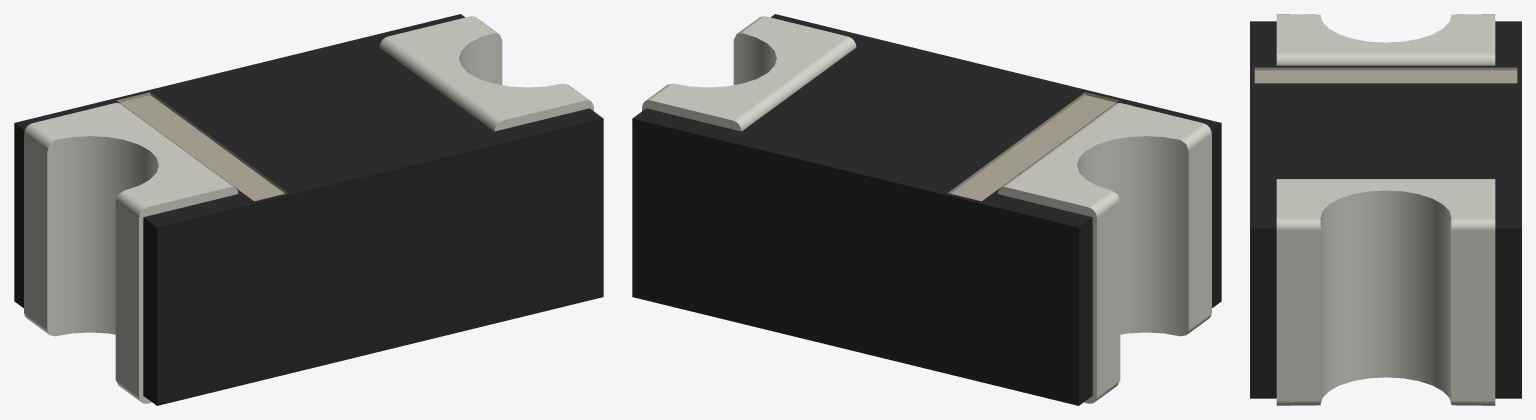
3 views of the same model, side by side, from view 1: azimuth 30°, elevation 25°; view 2: azimuth 150°, elevation 25°; view 3: azimuth 270°, elevation 25° (orthographic). The views are drawn at different scales.
Parts seen in each view (by area): view 1: =>[0:1:1:3]; view 2: =>[0:1:1:3]; view 3: =>[0:1:1:3].
Part boxes in pixels (<box>): =>[0:1:1:3]: <box>14,14,603,405</box>; =>[0:1:1:3]: <box>632,14,1221,405</box>; =>[0:1:1:3]: <box>1250,14,1521,405</box>.
Size of the model in its own units: 0.0016 by 0.00066 by 0.00087.
